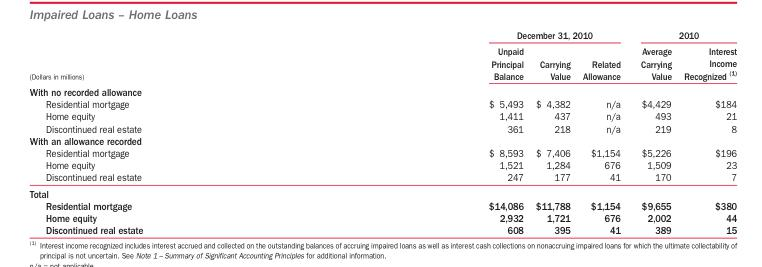table: (28, 29, 736, 235)
table column: (28, 29, 315, 235), (315, 29, 529, 235), (677, 29, 736, 235), (575, 29, 630, 235), (630, 29, 677, 235), (529, 29, 575, 235)
table column header: (28, 29, 736, 83)
table projected row header: (28, 184, 736, 199), (28, 83, 736, 97), (28, 133, 736, 146)
table row: (28, 43, 736, 83), (28, 184, 736, 199), (28, 29, 736, 43), (28, 83, 736, 97), (28, 170, 736, 184), (28, 133, 736, 146), (28, 97, 736, 109), (28, 109, 736, 121), (28, 121, 736, 133), (28, 146, 736, 158), (28, 158, 736, 170), (28, 199, 736, 211), (28, 211, 736, 223), (28, 223, 736, 235)
table spanning cell: (28, 29, 315, 83), (315, 29, 630, 43), (630, 29, 736, 43)
